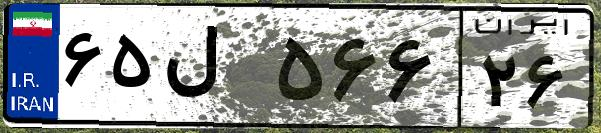2: (475, 38, 525, 113)
5: (270, 28, 330, 110), (110, 28, 158, 98)
6: (385, 28, 445, 110), (330, 28, 385, 110), (57, 26, 110, 100), (525, 38, 570, 115)
ل: (158, 20, 270, 120)
